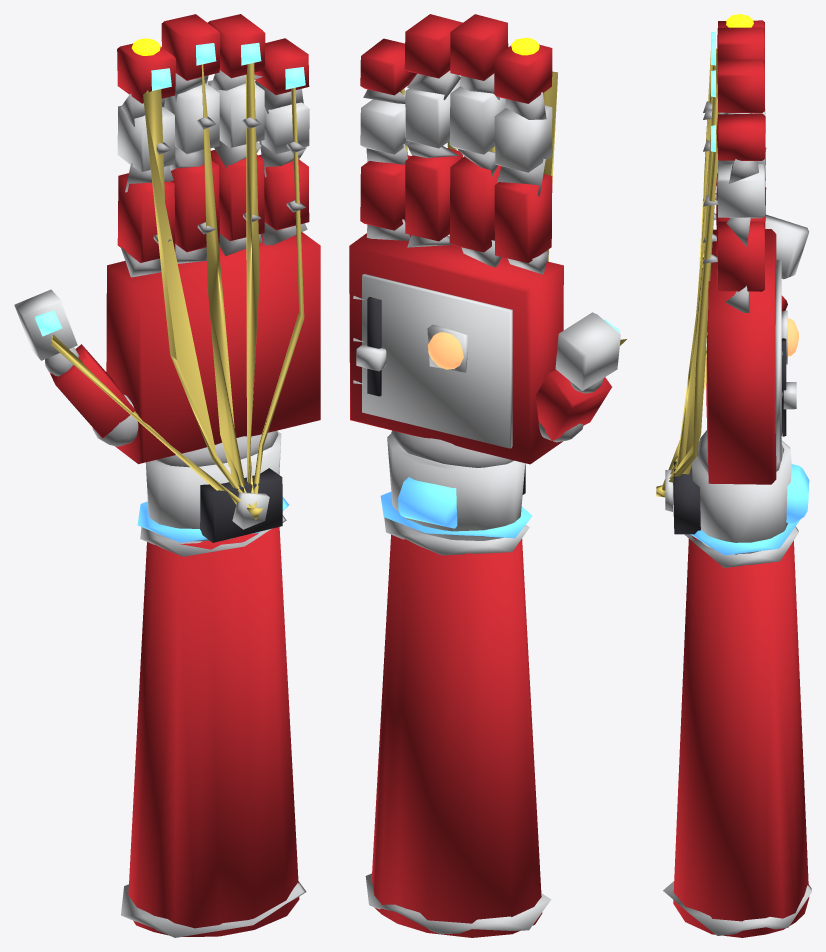
Rendered from Protesis_Mano_V4_LOD2.fbx.
3 renders of one model, left to right at view 1: azimuth 30°, elevation 25°; view 2: azimuth 150°, elevation 25°; view 3: azimuth 270°, elevation 25°, orthographic. The views are drawn at different scales.
Visible parts, largest first — view 1: Antebrazo_LOD2, Palma_LOD2, F2_Cable_Indice_LOD2, F2_Cable_Medio_LOD2, Muneca_Conector_LOD2, F2_Cable_Anular_LOD2, Indice_Proximal_LOD2, F2_Servomotor_LOD2, Pulgar_Proximal_LOD2, Medio_Proximal_LOD2, Anular_Proximal_LOD2, Medio_Distal_LOD2 (+17 smaller); view 2: Antebrazo_LOD2, Palma_LOD2, Palma_Placa_Dorso_LOD2, Muneca_Conector_LOD2, Indice_Proximal_LOD2, Medio_Proximal_LOD2, Anular_Proximal_LOD2, Pulgar_Distal_LOD2, Indice_Media_LOD2, Pulgar_Proximal_LOD2, Medio_Distal_LOD2, Menique_Proximal_LOD2 (+19 smaller); view 3: Antebrazo_LOD2, Palma_LOD2, Muneca_Conector_LOD2, Menique_Proximal_LOD2, Anular_Distal_LOD2, F2_Cable_Anular_LOD2, Menique_Distal_LOD2, Menique_Media_LOD2, F2_Cable_Menique_LOD2, Antebrazo_Anillo_Base_LOD2, F2_Servomotor_LOD2, Pulgar_Distal_LOD2 (+14 smaller).
Boxes of the visible parts, x1,y1,x2,y2 form: Antebrazo_LOD2: (128, 527, 299, 936); Palma_LOD2: (106, 232, 320, 464); F2_Cable_Indice_LOD2: (143, 89, 252, 507); F2_Cable_Medio_LOD2: (201, 64, 253, 507); Muneca_Conector_LOD2: (145, 432, 281, 541); F2_Cable_Anular_LOD2: (246, 63, 259, 507); Indice_Proximal_LOD2: (117, 173, 175, 262); F2_Servomotor_LOD2: (200, 468, 282, 542); Pulgar_Proximal_LOD2: (49, 344, 135, 438); Medio_Proximal_LOD2: (169, 160, 219, 252); Anular_Proximal_LOD2: (210, 150, 264, 240); Medio_Distal_LOD2: (161, 14, 220, 80); Antebrazo_LOD2: (371, 534, 542, 937); Palma_LOD2: (349, 233, 563, 464); Palma_Placa_Dorso_LOD2: (362, 274, 512, 448); Muneca_Conector_LOD2: (387, 433, 525, 540); Indice_Proximal_LOD2: (494, 174, 552, 263); Medio_Proximal_LOD2: (449, 156, 501, 252); Anular_Proximal_LOD2: (405, 148, 462, 241); Pulgar_Distal_LOD2: (555, 312, 620, 390); Indice_Media_LOD2: (494, 105, 552, 172); Pulgar_Proximal_LOD2: (536, 370, 611, 440); Medio_Distal_LOD2: (450, 14, 508, 80); Menique_Proximal_LOD2: (360, 155, 411, 230); Antebrazo_LOD2: (673, 535, 809, 937); Palma_LOD2: (706, 229, 776, 484); Muneca_Conector_LOD2: (691, 440, 791, 554); Menique_Proximal_LOD2: (717, 221, 764, 291); Anular_Distal_LOD2: (717, 59, 764, 113); F2_Cable_Anular_LOD2: (662, 92, 719, 496); Menique_Distal_LOD2: (716, 113, 765, 160); Menique_Media_LOD2: (717, 164, 764, 218); F2_Cable_Menique_LOD2: (662, 146, 718, 490); Antebrazo_Anillo_Base_LOD2: (663, 881, 811, 935); F2_Servomotor_LOD2: (673, 461, 700, 534); Pulgar_Distal_LOD2: (765, 214, 809, 279).
Size of the model in its own units: 2.32 by 7.34 by 1.21.
